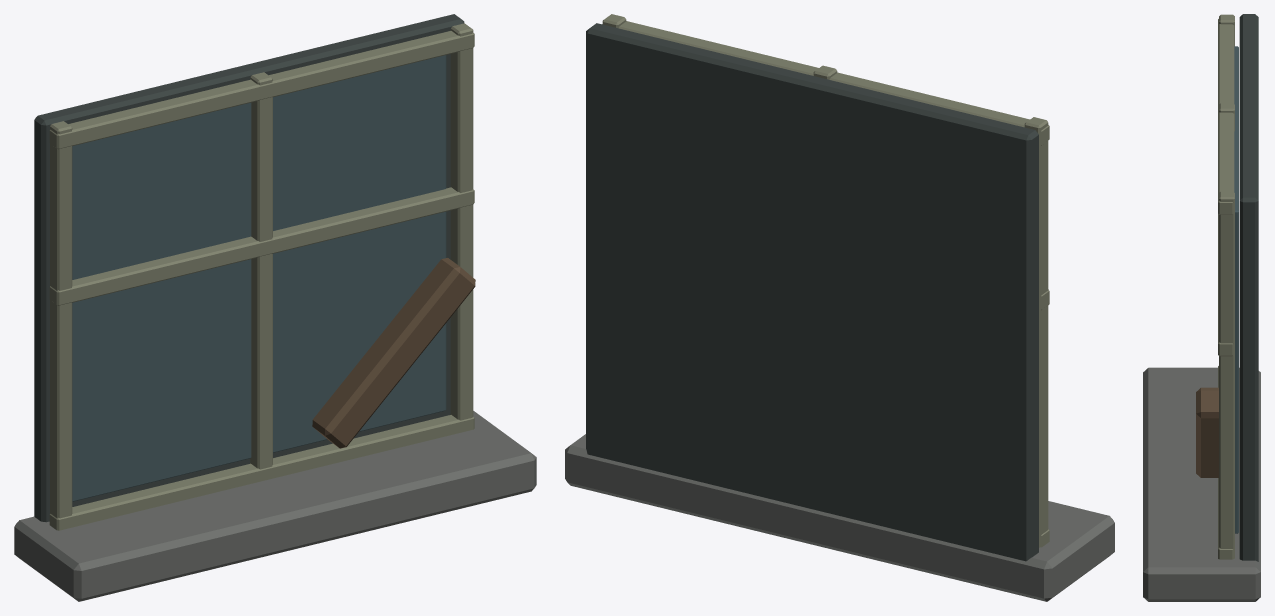
Rendered from Window01.fbx.
3 renders of one model, left to right at view 1: azimuth 30°, elevation 25°; view 2: azimuth 150°, elevation 25°; view 3: azimuth 270°, elevation 25°, orthographic. The views are drawn at different scales.
Visible parts, largest first — view 1: Dark_Glass, Deep_Sill, Recess, Window_Rail.002, Boarded_Corner, Window_Rail.001, Window_Upright, Window_Rail, Window_Upright.001, Window_Upright.002; view 2: Recess, Deep_Sill, Window_Upright, Window_Rail.002; view 3: Deep_Sill, Recess, Window_Upright.002, Window_Rail.002, Dark_Glass, Boarded_Corner, Window_Rail.001, Window_Rail, Window_Upright.
Part boxes in pixels (x1,y1,x2,y2): Dark_Glass: (72, 55, 446, 501); Deep_Sill: (14, 411, 536, 601); Recess: (34, 14, 464, 522); Window_Rail.002: (49, 31, 474, 149); Boarded_Corner: (312, 258, 475, 448); Window_Rail.001: (49, 187, 474, 305); Window_Upright: (50, 121, 72, 518); Window_Rail: (49, 415, 474, 530); Window_Upright.001: (250, 72, 272, 469); Window_Upright.002: (450, 23, 473, 420); Recess: (586, 23, 1038, 561); Deep_Sill: (565, 434, 1114, 601); Window_Upright: (1024, 117, 1048, 547); Window_Rail.002: (618, 21, 1049, 145); Deep_Sill: (1143, 367, 1260, 601); Recess: (1239, 14, 1258, 561); Window_Upright.002: (1219, 191, 1234, 558); Window_Rail.002: (1218, 19, 1234, 214); Dark_Glass: (1234, 46, 1238, 533); Boarded_Corner: (1196, 387, 1218, 477); Window_Rail.001: (1218, 214, 1233, 356); Window_Rail: (1218, 366, 1233, 559); Window_Upright: (1219, 14, 1234, 46).
Size of the model in its own units: 164 by 149 by 40.
